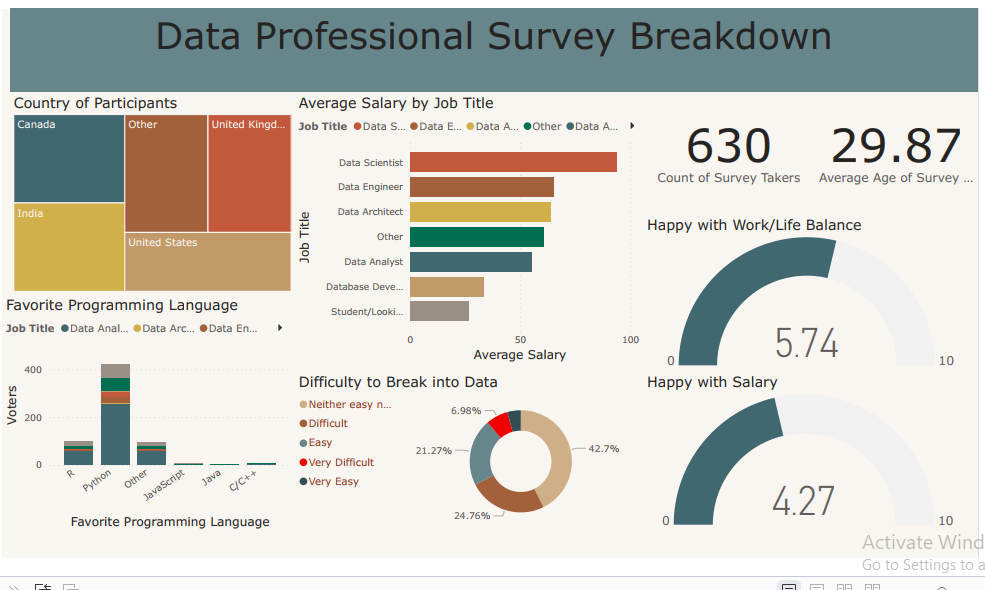

Layout of this report page (visuals, bound fields, positions):
{"tool":"powerbi","page":{"name":"Page 1","canvas":[1280,720],"ordinal":0},"visuals":[{"type":"textbox","box":[10.5,0,1269.5,110.5],"z":0},{"type":"card","fields":{"Values":["Count(Data Professional Survey.Unique ID)"]},"box":[841,110.9,224.6,146.9],"z":1},{"type":"card","fields":{"Values":["Avg(Data Professional Survey.Q10 - Current Age)"]},"box":[1065.6,110.9,214.6,146.9],"z":2},{"type":"barChart","title":"Average Salary by Job Title","fields":{"Category":["Data Professional Survey.Q1 - Which Title Best Fits your Current Role?.1"],"Y":["Avg(Data Professional Survey.Average Salary)"],"Series":["Data Professional Survey.Q1 - Which Title Best Fits your Current Role?.1"]},"box":[384.5,110.9,456.5,357.1],"z":3},{"type":"columnChart","title":"Favorite Programming Language","fields":{"Category":["Data Professional Survey.Q5 - Favorite Programming Language.1"],"Y":["CountNonNull(Data Professional Survey.Unique ID)"],"Series":["Data Professional Survey.Q1 - Which Title Best Fits your Current Role?.1"]},"box":[0,375.8,384.5,311],"z":4},{"type":"treemap","title":"Country of Participants ","fields":{"Group":["Data Professional Survey.Q11 - Which Country do you live in?.1"],"Values":["Count(Data Professional Survey.Q11 - Which Country do you live in?.1)"]},"box":[10.1,110.9,374.4,265],"z":5},{"type":"gauge","title":"Happy with Work/Life Balance","fields":{"Y":["Avg(Data Professional Survey.Q6 - How Happy are you in your Current Position with the following? (Work/Life Balance))"],"MinValue":["Min(Data Professional Survey.Q6 - How Happy are you in your Current Position with the following? (Work/Life Balance))1"],"MaxValue":["Max(Data Professional Survey.Q6 - How Happy are you in your Current Position with the following? (Work/Life Balance))"]},"box":[841,272.2,439.2,205.9],"z":6},{"type":"gauge","title":"Happy with Salary","fields":{"Y":["Avg(Data Professional Survey.Q6 - How Happy are you in your Current Position with the following? (Salary))"],"MinValue":["Min(Data Professional Survey.Q6 - How Happy are you in your Current Position with the following? (Salary))"],"MaxValue":["Max(Data Professional Survey.Q6 - How Happy are you in your Current Position with the following? (Salary))"]},"box":[841,478.1,432,208.8],"z":7},{"type":"donutChart","title":"Difficulty to Break into Data","fields":{"Y":["CountNonNull(Data Professional Survey.Q7 - How difficult was it for you to break into Data?)"],"Category":["Data Professional Survey.Q7 - How difficult was it for you to break into Data?"]},"box":[384.5,478.1,456.5,208.8],"z":8}]}

Visuals, with their boxes on the page's 1280x720 design canvas (x1, y1, x2, y2). These are canvas units, not pixel positions in the 985x590 screenshot, which may show the page scaled, cropped or inside an application window:
textbox: select_region(10, 0, 1280, 110)
card - Count(Data Professional Survey.Unique ID): select_region(841, 111, 1066, 258)
card - Avg(Data Professional Survey.Q10 - Current Age): select_region(1066, 111, 1280, 258)
"Average Salary by Job Title" barChart: select_region(384, 111, 841, 468)
"Favorite Programming Language" columnChart: select_region(0, 376, 384, 687)
"Country of Participants " treemap: select_region(10, 111, 384, 376)
"Happy with Work/Life Balance" gauge: select_region(841, 272, 1280, 478)
"Happy with Salary" gauge: select_region(841, 478, 1273, 687)
"Difficulty to Break into Data" donutChart: select_region(384, 478, 841, 687)
